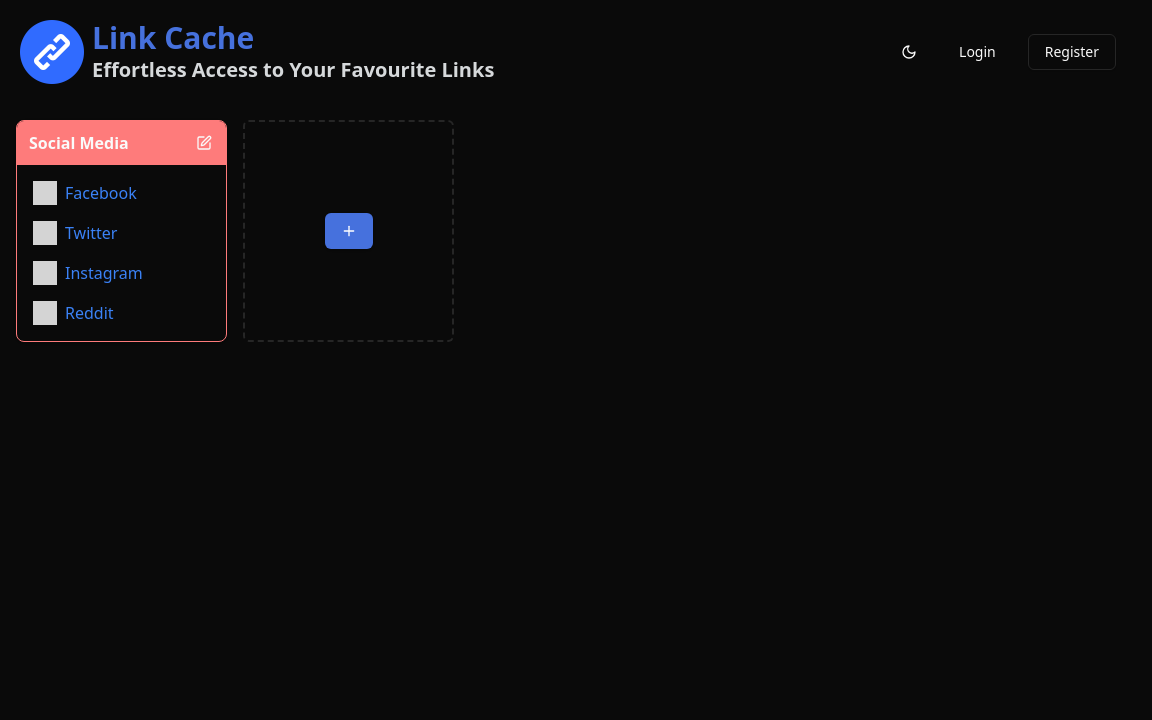
Test case: App Component › renders LinkGroupModal for new group
What coordinates should you click on to do the following:
click the icon with test id "new-link-group-btn"
I would click on:
 (349, 231)
Its box is [325, 213, 373, 249].
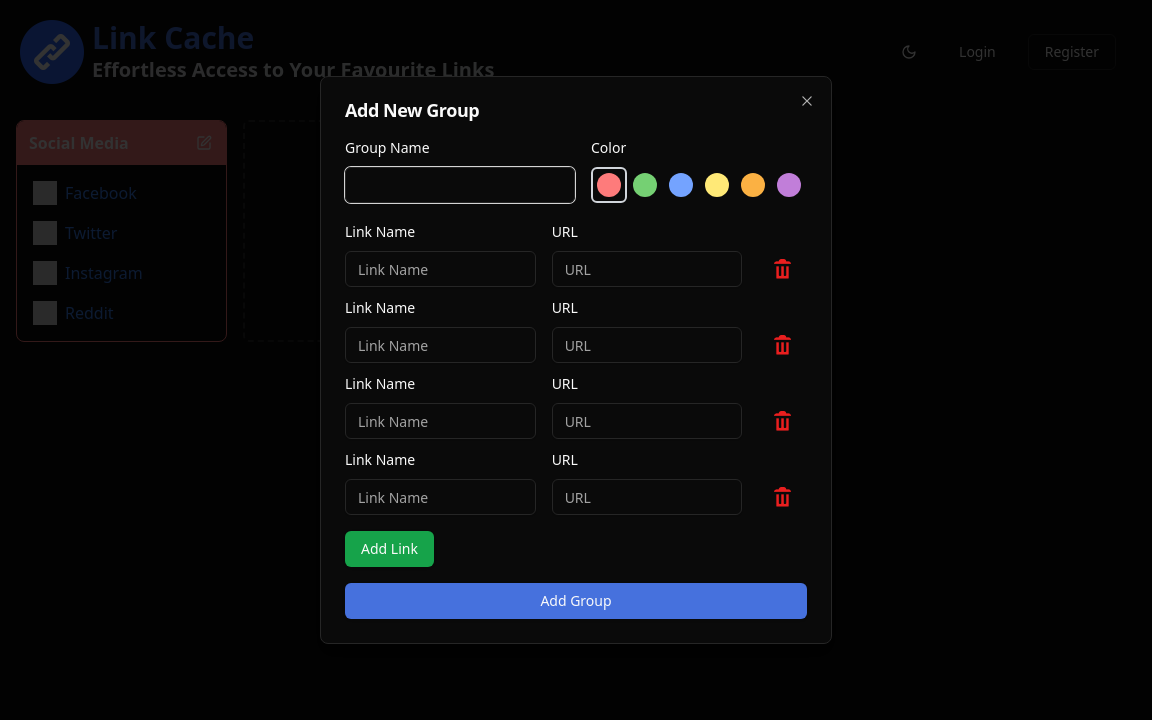
Result: the number of headings "Add New Group" is 2
Result: the text "Group Name" is shown at [345, 138, 430, 157]
Result: the text "Color" is shown at [591, 138, 626, 157]
